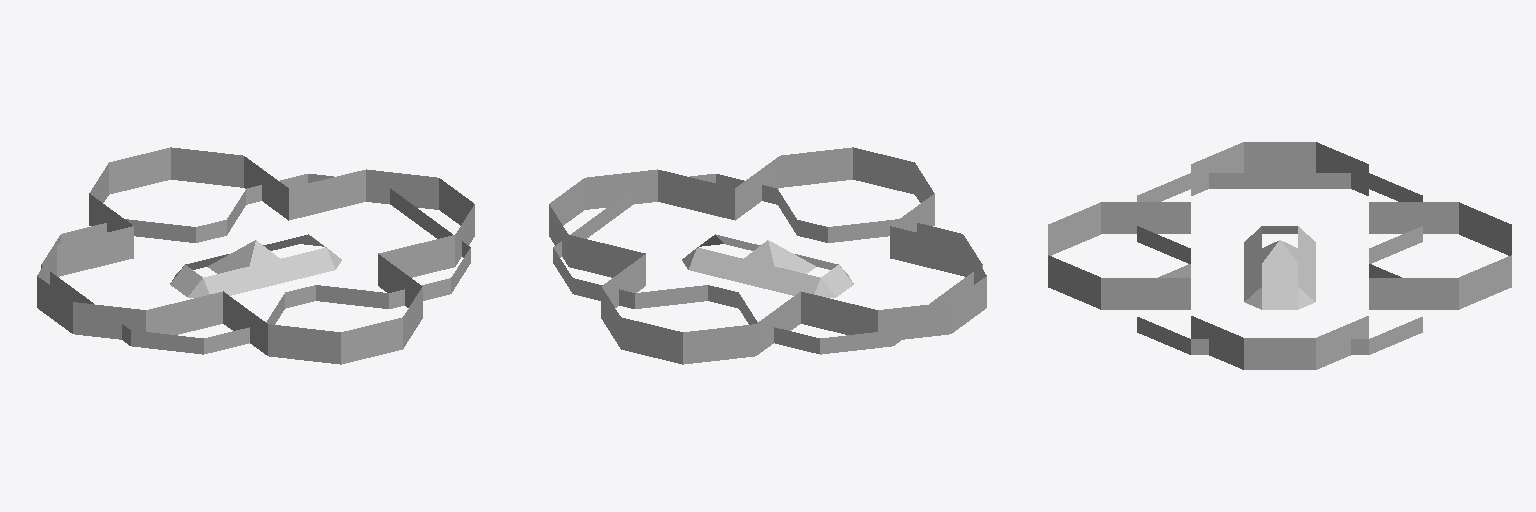
The model's file is levels.obj.
3 views of the same model, side by side, from view 1: azimuth 30°, elevation 25°; view 2: azimuth 150°, elevation 25°; view 3: azimuth 270°, elevation 25° (orthographic).
Parts seen in each view (by area): view 1: level0Render_Plane, level1Render_Plane.001; view 2: level0Render_Plane, level1Render_Plane.001; view 3: level0Render_Plane, level1Render_Plane.001.
Part boxes in pixels (x1,y1,x2,y2): level0Render_Plane: (37,147,474,364); level1Render_Plane.001: (41,174,470,354); level0Render_Plane: (549,147,986,364); level1Render_Plane.001: (553,174,982,354); level0Render_Plane: (1048,142,1511,369); level1Render_Plane.001: (1137,173,1422,354).
Bounding box in the file's own units: 260 × 20 × 260.